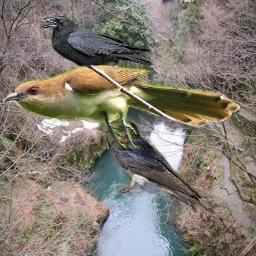Crow: (40, 16, 154, 100)
Cuckoo: (3, 65, 242, 149)
Swallow: (105, 119, 219, 217)
